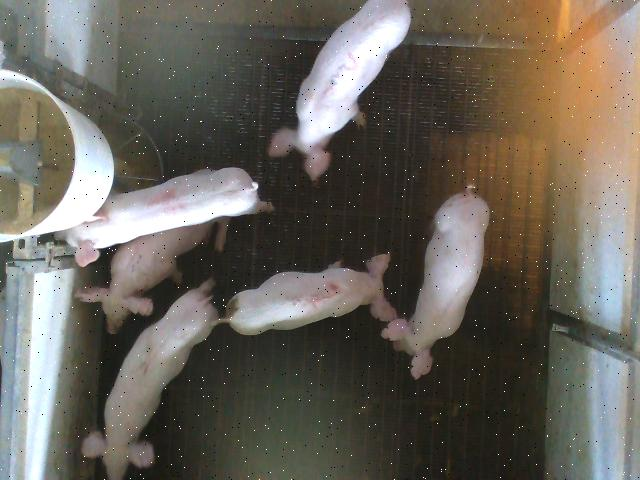pig-3: (269, 1, 411, 181)
pig-4: (65, 168, 272, 266)
pig-5: (225, 254, 396, 335)
